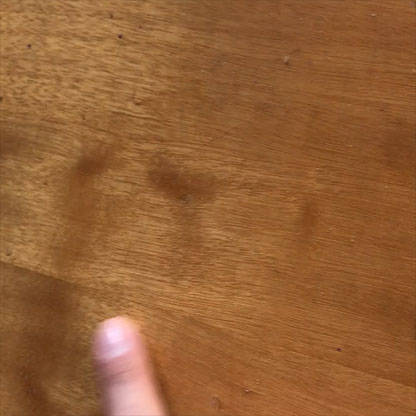fingertip: (82, 308, 151, 381)
